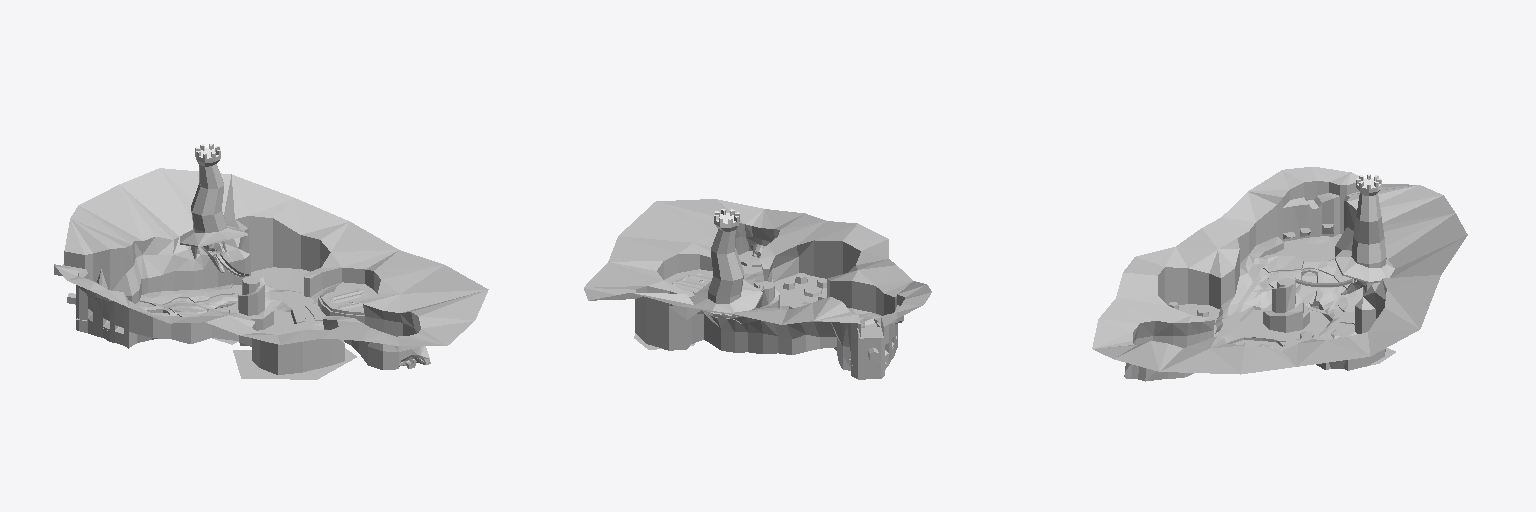
Rendered from Spiral-Mountain.obj.
3 views of the same model, side by side, from view 1: azimuth 30°, elevation 25°; view 2: azimuth 150°, elevation 25°; view 3: azimuth 270°, elevation 25° (orthographic).
Visible parts, largest first — view 1: Mesh204 Mesh_309_1 skp13E1 Model, Mesh254 Mesh_360_1 skp13E1 Model, Mesh76 Mesh_193_1 skp13E1 Model, Mesh374 Mesh_473_1 skp13E1 Model, Mesh413 Mesh_509_1 skp13E1 Model, Mesh289 Mesh_392_1 skp13E1 Model, Mesh292 Mesh_395_1 skp13E1 Model, Mesh215 Mesh_321_1 skp13E1 Model, Mesh332 Mesh_430_1 skp13E1 Model, Mesh14 Mesh_141_1 skp13E1 Model, Mesh300 Mesh_402_1 skp13E1 Model, Mesh411 Mesh_507_1 skp13E1 Model (+7 smaller); view 2: Mesh254 Mesh_360_1 skp13E1 Model, Mesh332 Mesh_430_1 skp13E1 Model, Mesh413 Mesh_509_1 skp13E1 Model, Mesh374 Mesh_473_1 skp13E1 Model, Mesh215 Mesh_321_1 skp13E1 Model, Mesh289 Mesh_392_1 skp13E1 Model, Mesh372 Mesh_471_1 skp13E1 Model, Mesh463 Mesh_552_1 skp13E1 Model, Mesh411 Mesh_507_1 skp13E1 Model, Mesh204 Mesh_309_1 skp13E1 Model, Mesh226 Mesh_332_1 skp13E1 Model, Mesh76 Mesh_193_1 skp13E1 Model (+4 smaller); view 3: Mesh204 Mesh_309_1 skp13E1 Model, Mesh76 Mesh_193_1 skp13E1 Model, Mesh254 Mesh_360_1 skp13E1 Model, Mesh374 Mesh_473_1 skp13E1 Model, Mesh332 Mesh_430_1 skp13E1 Model, Mesh215 Mesh_321_1 skp13E1 Model, Mesh411 Mesh_507_1 skp13E1 Model, Mesh463 Mesh_552_1 skp13E1 Model, Mesh413 Mesh_509_1 skp13E1 Model, Mesh289 Mesh_392_1 skp13E1 Model, Mesh273 Mesh_374_1 skp13E1 Model, Mesh372 Mesh_471_1 skp13E1 Model (+3 smaller).
Boxes of the visible parts, x1,y1,x2,y2 form: Mesh204 Mesh_309_1 skp13E1 Model: [79, 168, 192, 240]; Mesh254 Mesh_360_1 skp13E1 Model: [342, 250, 488, 312]; Mesh76 Mesh_193_1 skp13E1 Model: [160, 168, 300, 234]; Mesh374 Mesh_473_1 skp13E1 Model: [295, 198, 398, 266]; Mesh413 Mesh_509_1 skp13E1 Model: [403, 290, 487, 345]; Mesh289 Mesh_392_1 skp13E1 Model: [64, 205, 133, 254]; Mesh292 Mesh_395_1 skp13E1 Model: [233, 348, 356, 379]; Mesh215 Mesh_321_1 skp13E1 Model: [340, 327, 445, 345]; Mesh332 Mesh_430_1 skp13E1 Model: [240, 327, 360, 344]; Mesh14 Mesh_141_1 skp13E1 Model: [252, 267, 309, 292]; Mesh300 Mesh_402_1 skp13E1 Model: [273, 235, 300, 268]; Mesh411 Mesh_507_1 skp13E1 Model: [54, 264, 128, 307]; Mesh254 Mesh_360_1 skp13E1 Model: [608, 202, 713, 279]; Mesh332 Mesh_430_1 skp13E1 Model: [798, 221, 888, 264]; Mesh413 Mesh_509_1 skp13E1 Model: [656, 199, 763, 238]; Mesh374 Mesh_473_1 skp13E1 Model: [584, 262, 663, 300]; Mesh215 Mesh_321_1 skp13E1 Model: [746, 209, 825, 245]; Mesh289 Mesh_392_1 skp13E1 Model: [782, 297, 860, 324]; Mesh372 Mesh_471_1 skp13E1 Model: [694, 280, 762, 312]; Mesh463 Mesh_552_1 skp13E1 Model: [876, 266, 926, 297]; Mesh411 Mesh_507_1 skp13E1 Model: [881, 285, 931, 326]; Mesh204 Mesh_309_1 skp13E1 Model: [681, 306, 797, 324]; Mesh226 Mesh_332_1 skp13E1 Model: [852, 281, 875, 312]; Mesh76 Mesh_193_1 skp13E1 Model: [590, 293, 704, 309]; Mesh204 Mesh_309_1 skp13E1 Model: [1381, 195, 1467, 268]; Mesh76 Mesh_193_1 skp13E1 Model: [1368, 235, 1467, 331]; Mesh254 Mesh_360_1 skp13E1 Model: [1160, 344, 1297, 374]; Mesh374 Mesh_473_1 skp13E1 Model: [1296, 329, 1419, 366]; Mesh332 Mesh_430_1 skp13E1 Model: [1116, 247, 1187, 305]; Mesh215 Mesh_321_1 skp13E1 Model: [1092, 298, 1168, 348]; Mesh411 Mesh_507_1 skp13E1 Model: [1248, 167, 1358, 204]; Mesh463 Mesh_552_1 skp13E1 Model: [1203, 192, 1276, 237]; Mesh413 Mesh_509_1 skp13E1 Model: [1093, 341, 1182, 371]; Mesh289 Mesh_392_1 skp13E1 Model: [1347, 184, 1442, 214]; Mesh273 Mesh_374_1 skp13E1 Model: [1176, 228, 1236, 267]; Mesh372 Mesh_471_1 skp13E1 Model: [1335, 250, 1394, 282].
Size of the model in its own units: 17080 by 7104 by 16106.